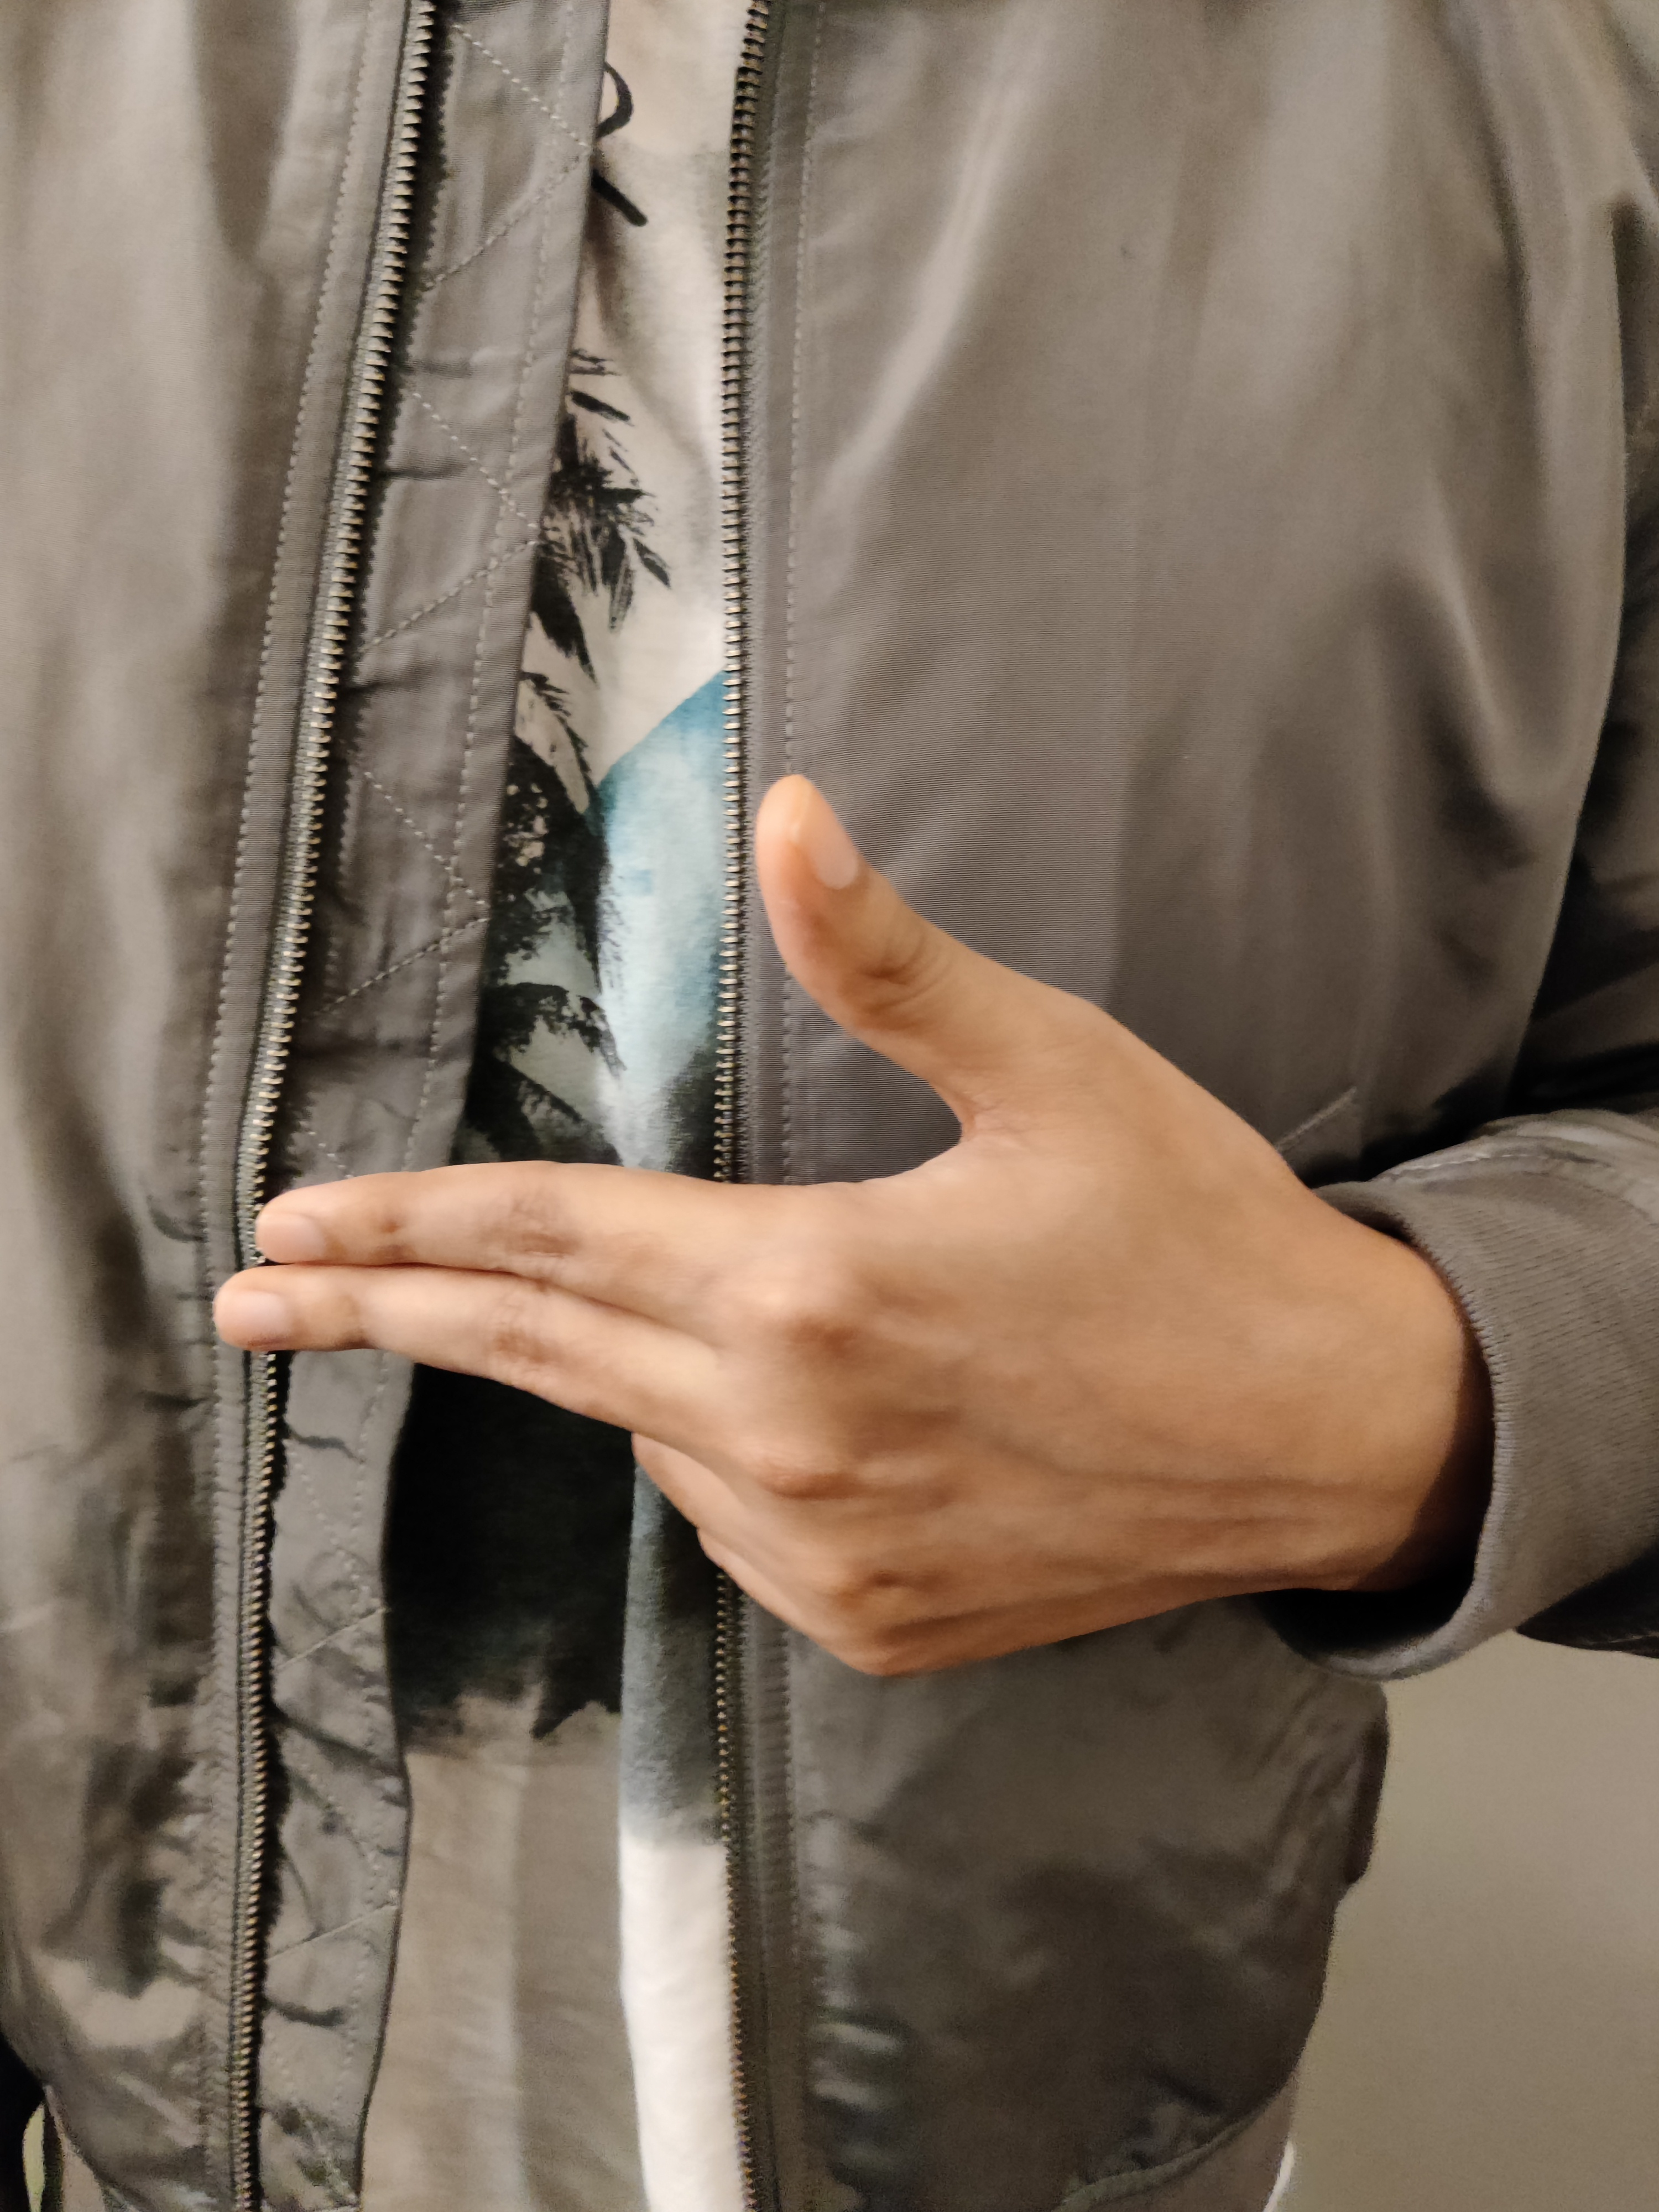right: (92, 655, 1596, 1857)
